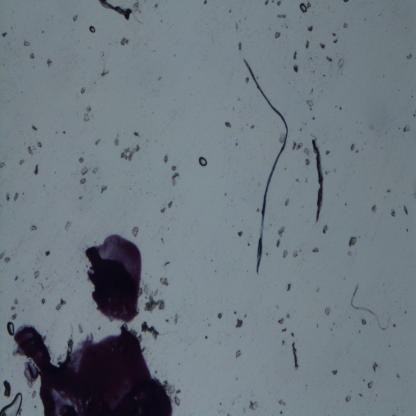Air bubble: (0, 390, 25, 415), (6, 323, 15, 337), (299, 3, 309, 14), (199, 156, 208, 167), (88, 24, 97, 34)
Background material: (142, 294, 165, 314), (140, 323, 162, 341), (120, 146, 142, 162), (290, 341, 300, 372), (171, 383, 182, 405), (2, 379, 12, 399), (55, 298, 67, 313), (171, 172, 180, 188), (141, 281, 150, 296), (248, 400, 259, 412), (119, 34, 130, 46), (160, 276, 170, 289), (293, 141, 304, 152), (402, 123, 412, 135), (29, 389, 39, 401), (324, 303, 332, 318), (348, 235, 358, 247), (402, 204, 410, 218), (306, 99, 314, 113), (370, 202, 378, 216), (99, 68, 110, 78), (277, 397, 287, 408), (336, 59, 346, 70), (292, 63, 300, 76), (235, 318, 244, 329), (285, 194, 292, 208), (367, 378, 374, 392), (26, 144, 34, 156), (65, 220, 73, 232), (372, 362, 380, 374), (273, 30, 281, 42), (132, 226, 140, 238), (93, 136, 102, 146), (34, 162, 40, 177), (281, 249, 289, 260), (162, 155, 170, 166), (321, 225, 329, 236), (277, 12, 288, 20), (0, 159, 7, 171), (404, 53, 413, 62), (29, 224, 38, 233), (331, 368, 339, 378), (42, 250, 52, 258), (235, 348, 243, 358), (160, 260, 170, 268), (306, 24, 314, 34), (72, 12, 79, 23), (34, 269, 41, 280), (46, 57, 53, 68), (134, 1, 141, 12), (172, 312, 178, 324), (293, 248, 299, 260), (84, 112, 90, 124), (278, 226, 285, 236), (167, 200, 174, 210), (39, 281, 46, 291), (133, 130, 140, 140), (40, 297, 47, 307), (293, 50, 299, 61), (31, 124, 39, 132), (225, 121, 233, 129), (100, 185, 108, 193), (80, 177, 88, 185), (4, 256, 12, 264), (18, 158, 26, 166), (37, 141, 44, 150), (345, 394, 352, 403), (305, 159, 312, 168), (92, 167, 99, 176), (81, 167, 88, 176), (286, 282, 292, 292), (13, 192, 19, 202), (114, 137, 119, 149), (276, 237, 281, 249), (273, 302, 280, 310), (202, 332, 209, 340), (11, 314, 18, 322), (360, 320, 368, 327), (305, 147, 312, 155), (325, 56, 333, 63), (312, 248, 320, 255), (319, 42, 326, 50), (79, 88, 86, 96), (313, 286, 320, 294), (78, 156, 85, 164), (13, 298, 20, 306), (6, 191, 11, 202), (24, 39, 30, 48), (14, 273, 20, 282), (391, 209, 396, 219), (2, 30, 8, 38), (351, 141, 355, 153), (238, 230, 244, 238), (86, 105, 92, 113), (278, 318, 284, 326), (281, 338, 287, 346), (303, 176, 309, 184), (30, 54, 36, 62), (333, 38, 339, 46), (160, 206, 166, 214), (171, 164, 177, 172), (217, 312, 223, 320), (0, 250, 5, 259), (238, 41, 242, 52), (346, 249, 352, 256), (324, 169, 331, 175), (281, 327, 288, 333), (224, 411, 232, 416), (306, 40, 310, 50), (284, 313, 290, 319), (250, 124, 256, 130), (78, 195, 84, 201), (275, 0, 281, 6), (358, 392, 364, 398), (308, 89, 314, 95), (343, 23, 349, 29), (10, 306, 16, 312), (244, 76, 249, 83), (202, 0, 209, 5), (385, 188, 392, 193), (152, 4, 159, 9), (354, 147, 359, 154), (160, 236, 165, 243), (396, 372, 401, 379), (230, 104, 234, 112), (331, 32, 337, 37), (325, 150, 330, 156), (265, 0, 270, 6), (218, 400, 223, 405), (294, 178, 299, 183), (62, 130, 67, 135), (362, 378, 368, 382), (342, 0, 350, 3), (156, 76, 162, 80), (291, 330, 294, 338), (40, 28, 44, 34), (344, 201, 348, 207), (235, 23, 238, 30), (332, 321, 336, 326), (246, 242, 250, 247), (228, 8, 232, 13), (210, 258, 214, 262), (209, 323, 213, 327), (234, 141, 238, 145), (312, 116, 316, 120), (234, 310, 238, 314), (242, 314, 246, 318), (312, 68, 315, 73), (406, 228, 409, 233), (393, 323, 396, 328), (224, 191, 227, 196), (316, 323, 319, 328), (330, 328, 333, 332), (235, 377, 238, 381), (338, 107, 342, 110), (412, 114, 416, 117), (300, 128, 303, 132), (411, 93, 414, 97), (272, 0, 275, 4), (56, 130, 58, 135), (214, 270, 217, 273), (323, 74, 326, 77), (168, 227, 170, 231), (236, 98, 240, 100), (310, 56, 312, 60), (404, 310, 406, 314), (388, 344, 390, 348)
Cellulose filter fibre: (350, 282, 391, 333), (311, 137, 325, 227), (99, 1, 135, 22)
Cotton: (242, 56, 288, 275)
Pen: (14, 320, 174, 414), (85, 234, 141, 323)
